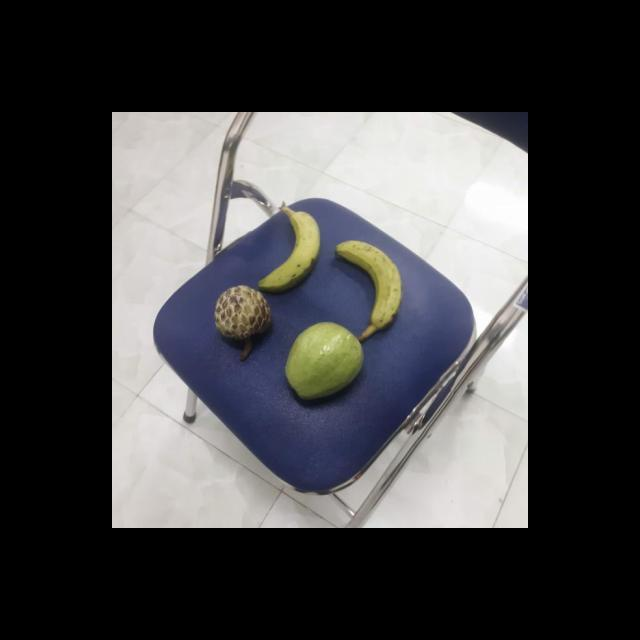Sakya fruit: (213, 284, 274, 352)
banana: (333, 240, 406, 332), (258, 206, 325, 294)
guava: (285, 323, 368, 402)
